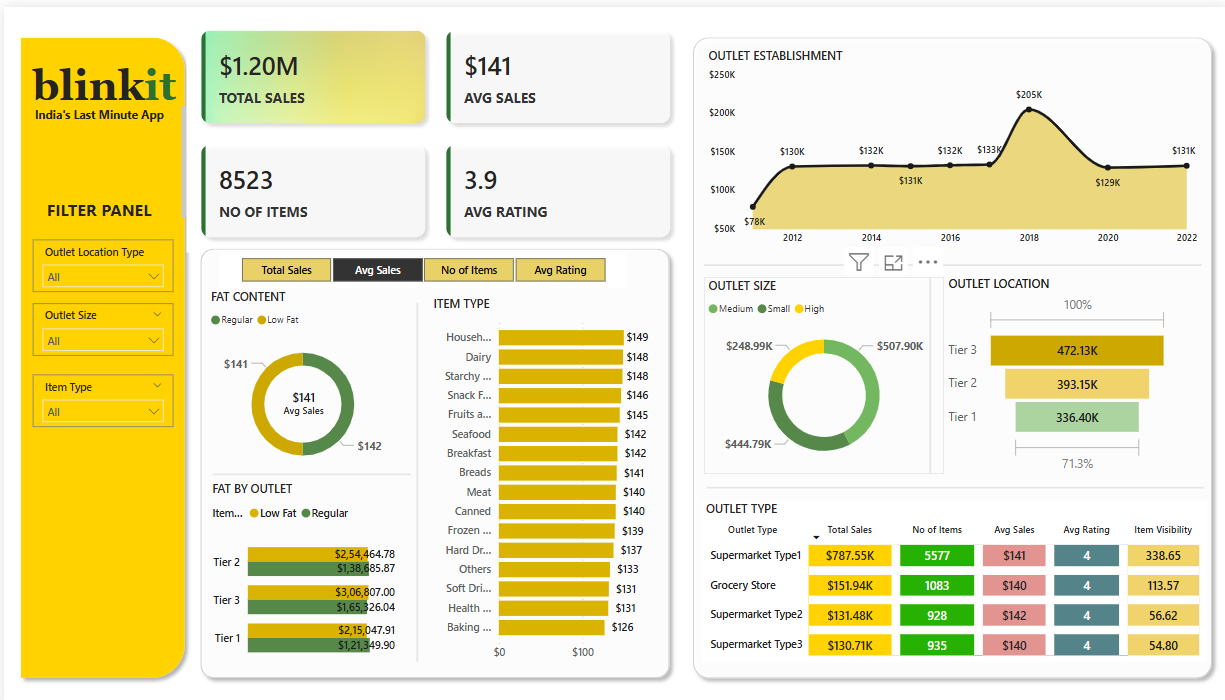

Layout of this report page (visuals, bound fields, positions):
{"tool":"powerbi","page":{"name":"Page 1","canvas":[1400,800],"ordinal":0},"visuals":[{"type":"shape","box":[10.5,25.5,205.6,750],"z":0},{"type":"textbox","box":[21,57,186.1,69],"z":1000},{"type":"textbox","box":[10.5,108.1,205.6,147.1],"z":2000},{"type":"cardVisual","fields":{"Data":["BlinkIT Grocery Data.Total Sales","BlinkIT Grocery Data.Avg Sales","BlinkIT Grocery Data.No of Items","BlinkIT Grocery Data.Avg Rating"]},"box":[208.6,10.5,570.3,270.2],"z":3000},{"type":"shape","box":[216.1,267.2,553.8,508.8],"z":4000},{"type":"donutChart","title":"FAT CONTENT","fields":{"Y":["BlinkIT Grocery Data.Avg Sales"],"Category":["BlinkIT Grocery Data.Item Fat Content"]},"box":[231.1,321.2,220.6,220],"z":5000},{"type":"slicer","fields":{"Values":["Metrics.Metrics"]},"box":[246.1,280.7,465.3,40.5],"z":6000},{"type":"clusteredBarChart","title":"FAT BY OUTLET","fields":{"Y":["BlinkIT Grocery Data.Avg Sales"],"Category":["BlinkIT Grocery Data.Outlet Location Type"],"Series":["BlinkIT Grocery Data.Item Fat Content"]},"box":[232.6,541.8,219.1,220.6],"z":7000},{"type":"shape","box":[238.6,523.8,226.6,19.5],"z":8000},{"type":"shape","box":[451.8,339.2,42,409.7],"z":9000},{"type":"barChart","title":"ITEM TYPE","fields":{"Y":["BlinkIT Grocery Data.Avg Sales"],"Category":["BlinkIT Grocery Data.Item Type"]},"box":[486.3,330.2,268.7,426.2],"z":10000},{"type":"cardVisual","fields":{"Data":["BlinkIT Grocery Data.Avg Sales"]},"box":[291.2,420.2,102.1,60],"z":11000},{"type":"shape","box":[778.9,25.5,610.9,750.4],"z":12000},{"type":"lineChart","title":"OUTLET ESTABLISHMENT","fields":{"Y":["BlinkIT Grocery Data.Total Sales"],"Category":["BlinkIT Grocery Data.Outlet Establishment Year"]},"box":[800,45,568.8,235.6],"z":13000},{"type":"shape","box":[800,280.7,568.8,30],"z":14000},{"type":"donutChart","title":"OUTLET SIZE","fields":{"Y":["BlinkIT Grocery Data.Total Sales"],"Category":["BlinkIT Grocery Data.Outlet Size"]},"box":[800,309.2,274.7,225.1],"z":15000},{"type":"shape","box":[1043.1,310.7,31.5,223.6],"z":16000},{"type":"funnel","title":"OUTLET LOCATION","fields":{"Y":["Sum(BlinkIT Grocery Data.Sales)"],"Category":["BlinkIT Grocery Data.Outlet Location Type"]},"box":[1074.6,307.7,261.2,229.6],"z":17000},{"type":"shape","box":[803,534.3,568.8,30],"z":18000},{"type":"pivotTable","title":"OUTLET TYPE","fields":{"Rows":["BlinkIT Grocery Data.Outlet Type"],"Values":["BlinkIT Grocery Data.Total Sales","BlinkIT Grocery Data.No of Items","BlinkIT Grocery Data.Avg Sales","BlinkIT Grocery Data.Avg Rating","Sum(BlinkIT Grocery Data.Item Visibility)"]},"box":[797,564.3,577.8,184.6],"z":19000},{"type":"slicer","fields":{"Values":["BlinkIT Grocery Data.Outlet Location Type"]},"box":[33,265.7,160.6,60],"z":20000},{"type":"slicer","fields":{"Values":["BlinkIT Grocery Data.Outlet Size"]},"box":[33,339.2,160.6,60],"z":21000},{"type":"slicer","fields":{"Values":["BlinkIT Grocery Data.Item Type"]},"box":[33,420.2,160.6,60],"z":22000}]}

Visuals, with their boxes in screenshot pixels (x1, y1, x2, y2), scaled from the page's 1400x800 canvas onto the 1225x700 screenshot:
shape: BBox(9, 22, 189, 679)
textbox: BBox(18, 50, 181, 110)
textbox: BBox(9, 95, 189, 223)
cardVisual - BlinkIT Grocery Data.Total Sales x BlinkIT Grocery Data.Avg Sales: BBox(183, 9, 682, 246)
shape: BBox(189, 234, 674, 679)
"FAT CONTENT" donutChart: BBox(202, 281, 395, 474)
slicer - Metrics.Metrics: BBox(215, 246, 622, 281)
"FAT BY OUTLET" clusteredBarChart: BBox(204, 474, 395, 667)
shape: BBox(209, 458, 407, 475)
shape: BBox(395, 297, 432, 655)
"ITEM TYPE" barChart: BBox(426, 289, 661, 662)
cardVisual - BlinkIT Grocery Data.Avg Sales: BBox(255, 368, 344, 420)
shape: BBox(682, 22, 1216, 679)
"OUTLET ESTABLISHMENT" lineChart: BBox(700, 39, 1198, 246)
shape: BBox(700, 246, 1198, 272)
"OUTLET SIZE" donutChart: BBox(700, 271, 940, 468)
shape: BBox(913, 272, 940, 468)
"OUTLET LOCATION" funnel: BBox(940, 269, 1169, 470)
shape: BBox(703, 468, 1200, 494)
"OUTLET TYPE" pivotTable: BBox(697, 494, 1203, 655)
slicer - BlinkIT Grocery Data.Outlet Location Type: BBox(29, 232, 169, 285)
slicer - BlinkIT Grocery Data.Outlet Size: BBox(29, 297, 169, 349)
slicer - BlinkIT Grocery Data.Item Type: BBox(29, 368, 169, 420)
